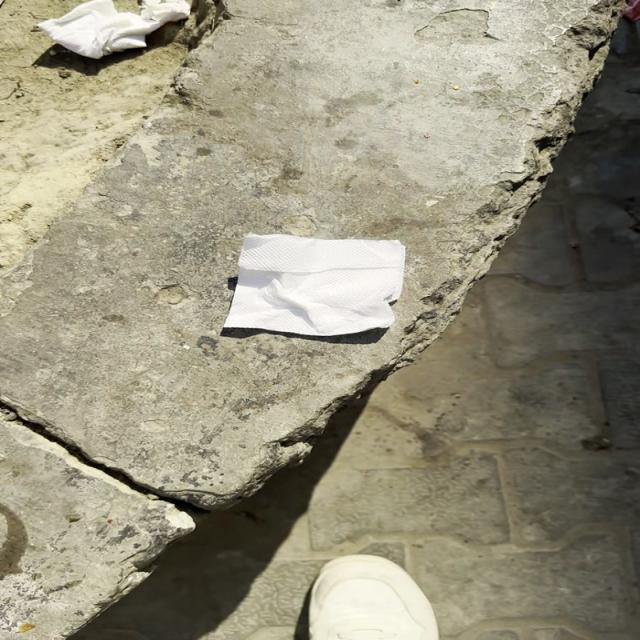tissue: (209, 236, 412, 335)
